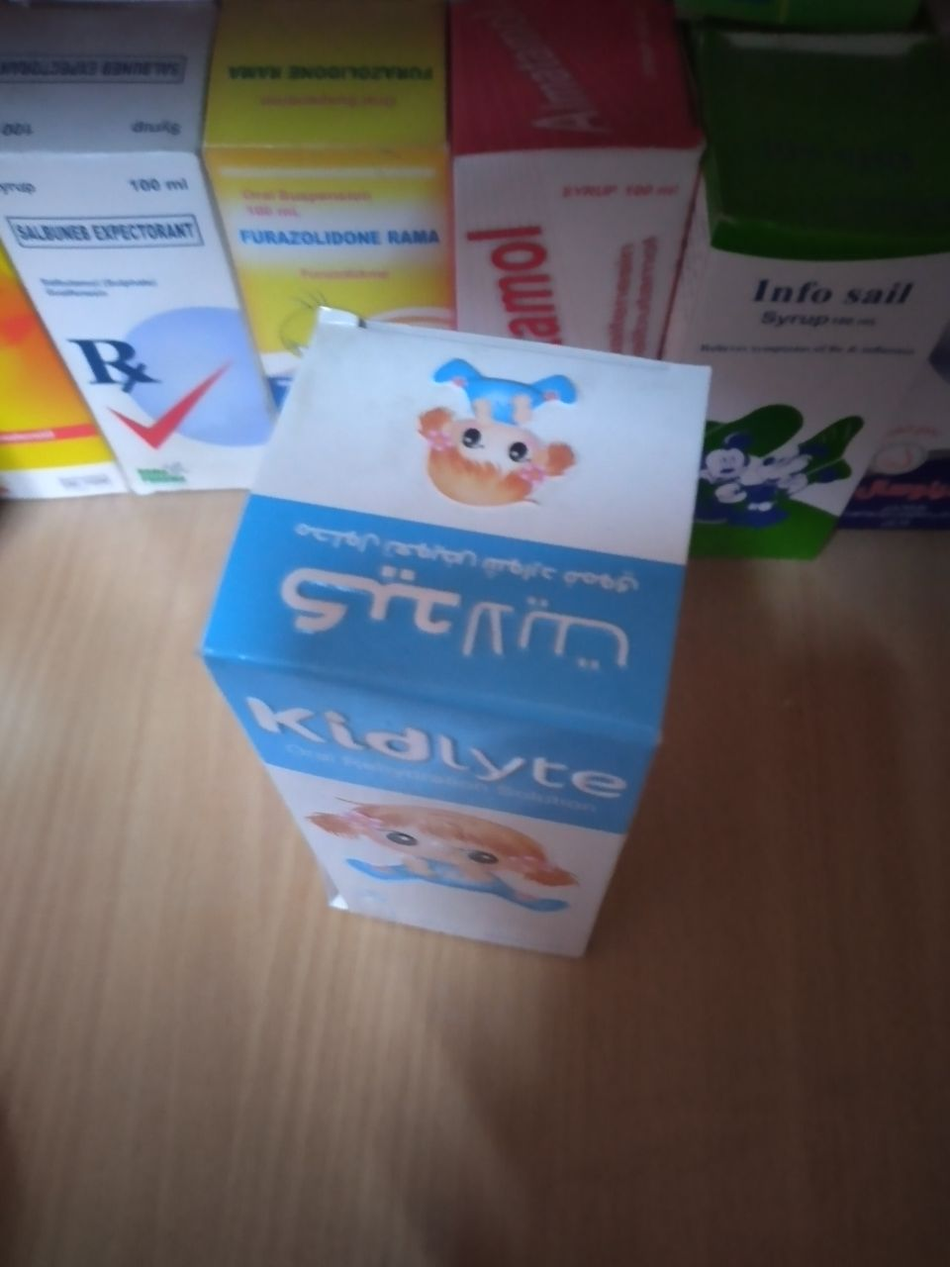Medicine: (185, 287, 712, 996), (0, 36, 261, 488), (689, 122, 927, 597), (462, 10, 689, 379), (211, 26, 435, 360)
